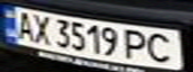1: (84, 22, 103, 55)
3: (51, 16, 72, 50)
5: (66, 19, 87, 52)
9: (100, 25, 124, 57)
A: (12, 8, 36, 41)
C: (145, 30, 181, 64)
P: (121, 27, 151, 61)
X: (27, 11, 54, 46)
